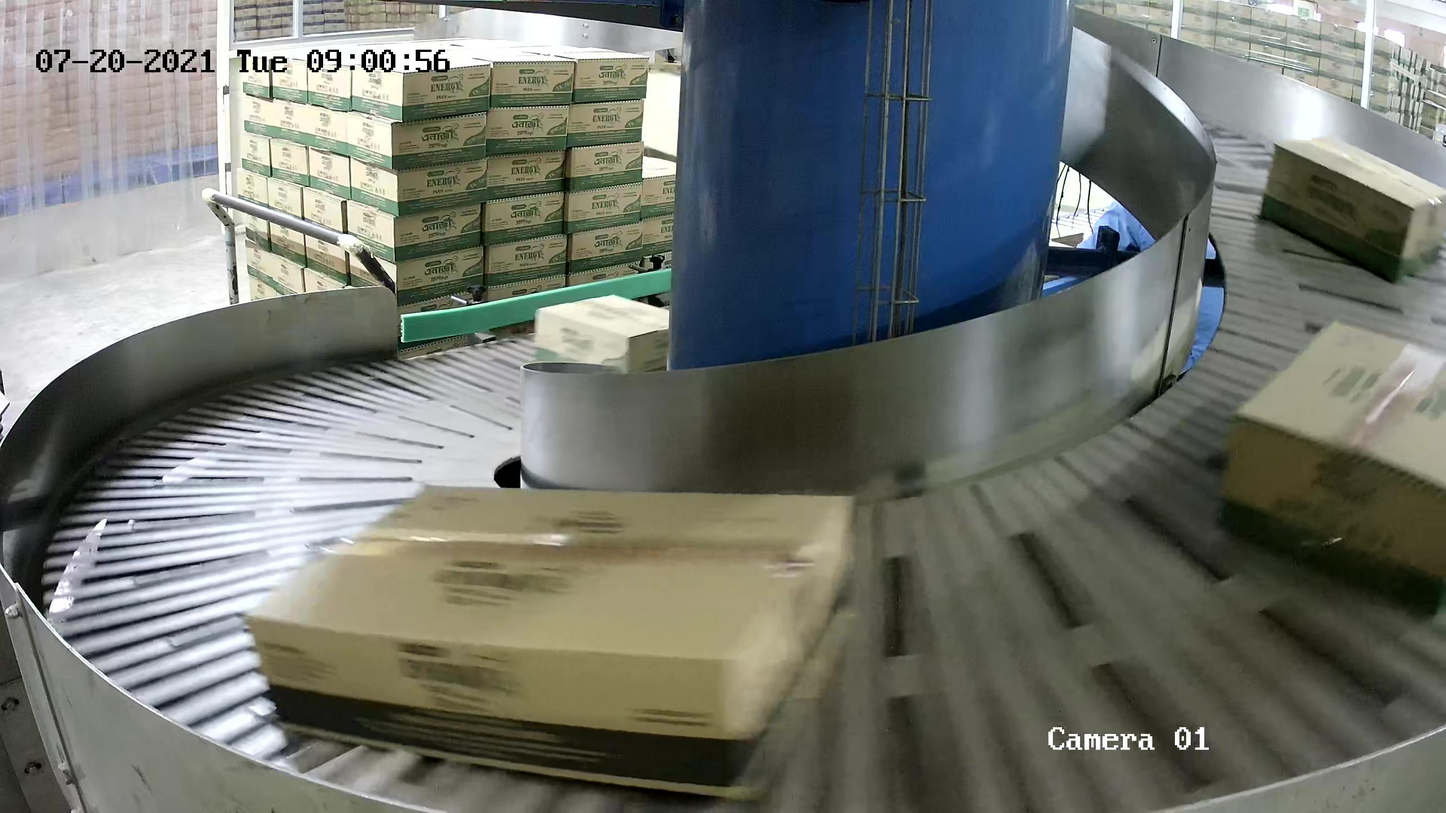Box: (240, 477, 860, 803), (1217, 315, 1446, 623), (1258, 130, 1446, 287), (532, 292, 671, 377)
